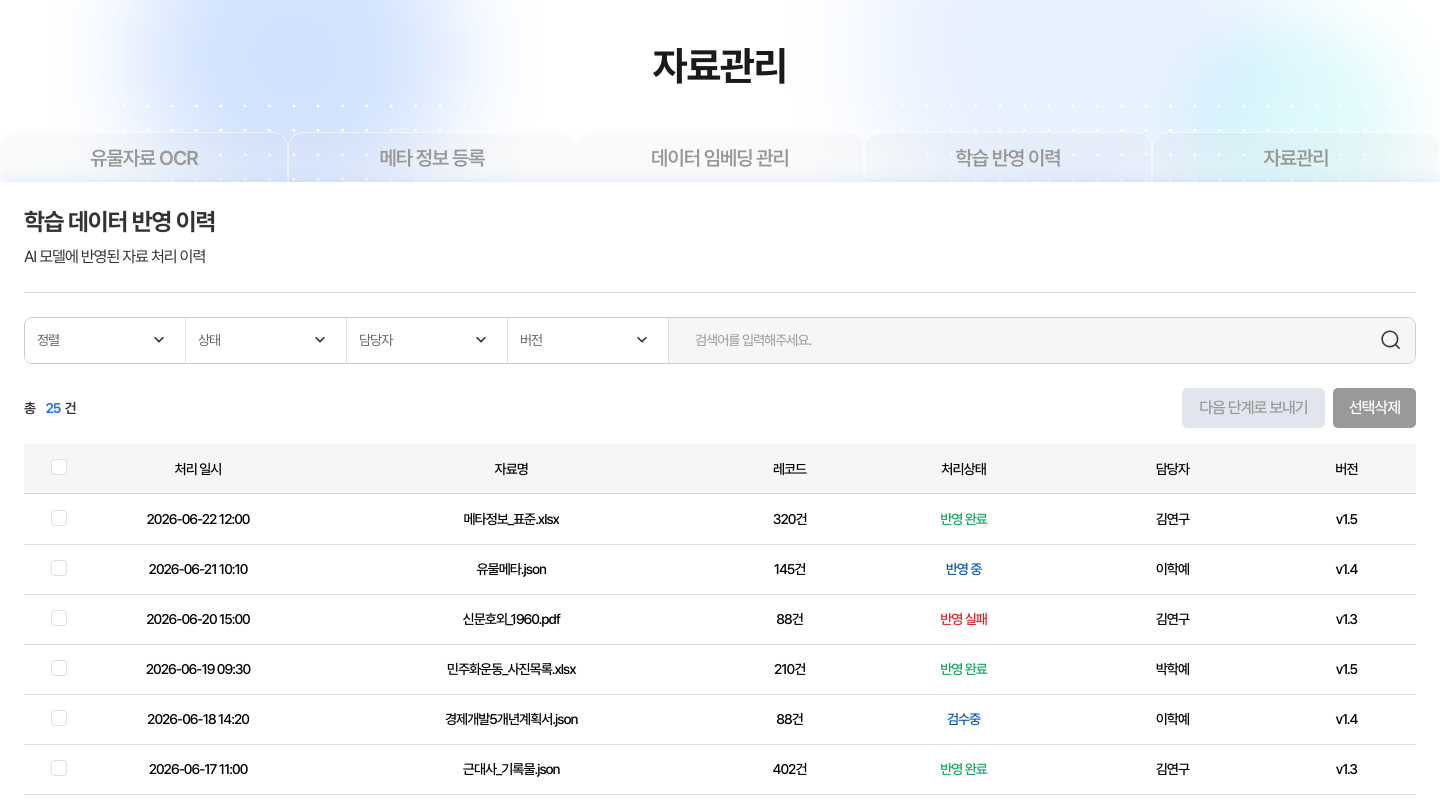
History: 행 클릭은 준비중 — HistoryViewModal이 열리지 않고 토스트만 뜬다(D2a)
Click the row "2026-06-22 12:00 메타정보_표준.xlsx 320건 반영 완료 김연구 v1.5": coordinates (720, 520) [24,494,1416,544]
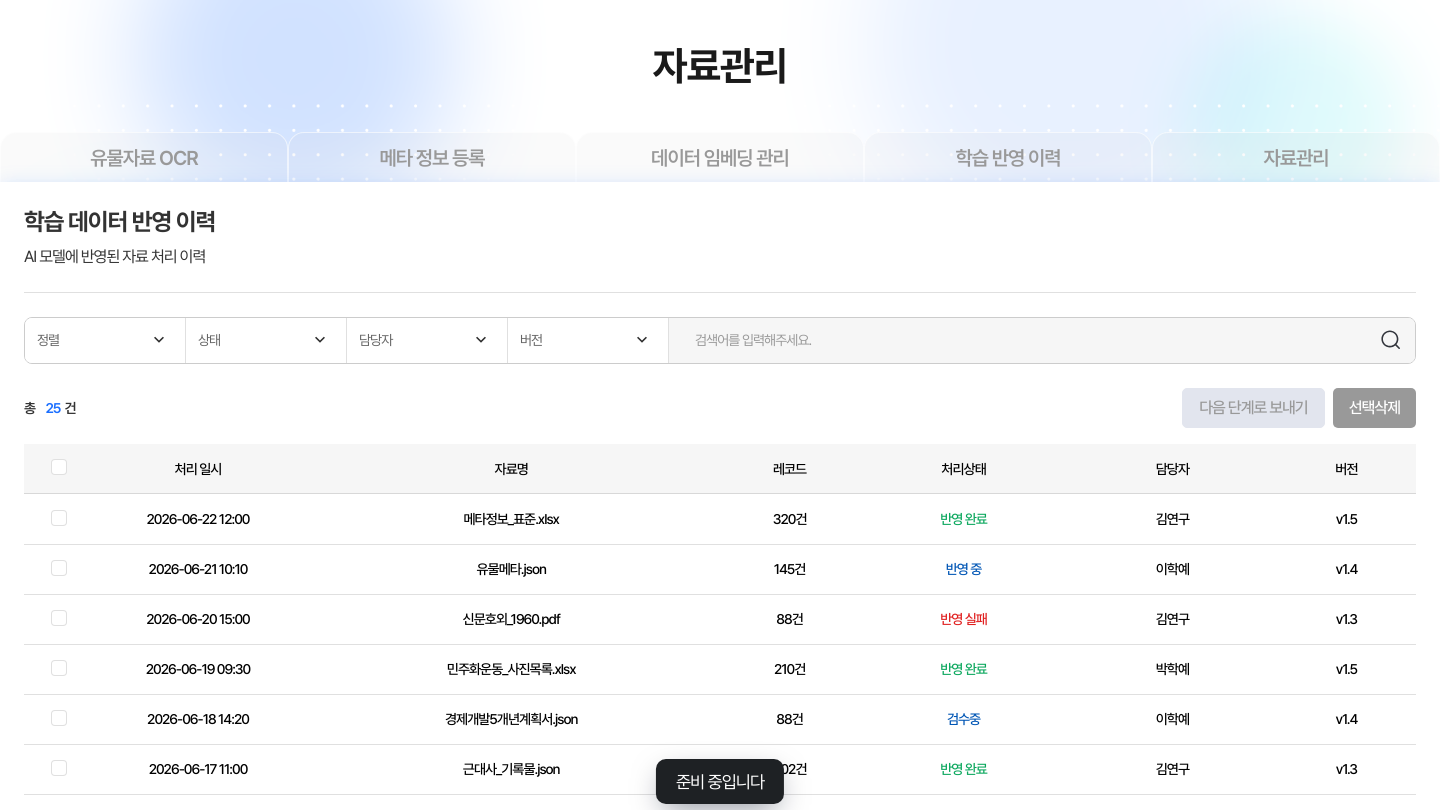
Result: the message reads "준비 중입니다" at [676,771,764,792]
